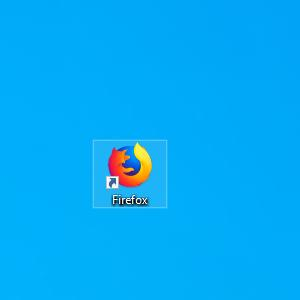firefox: (107, 142, 153, 189)
